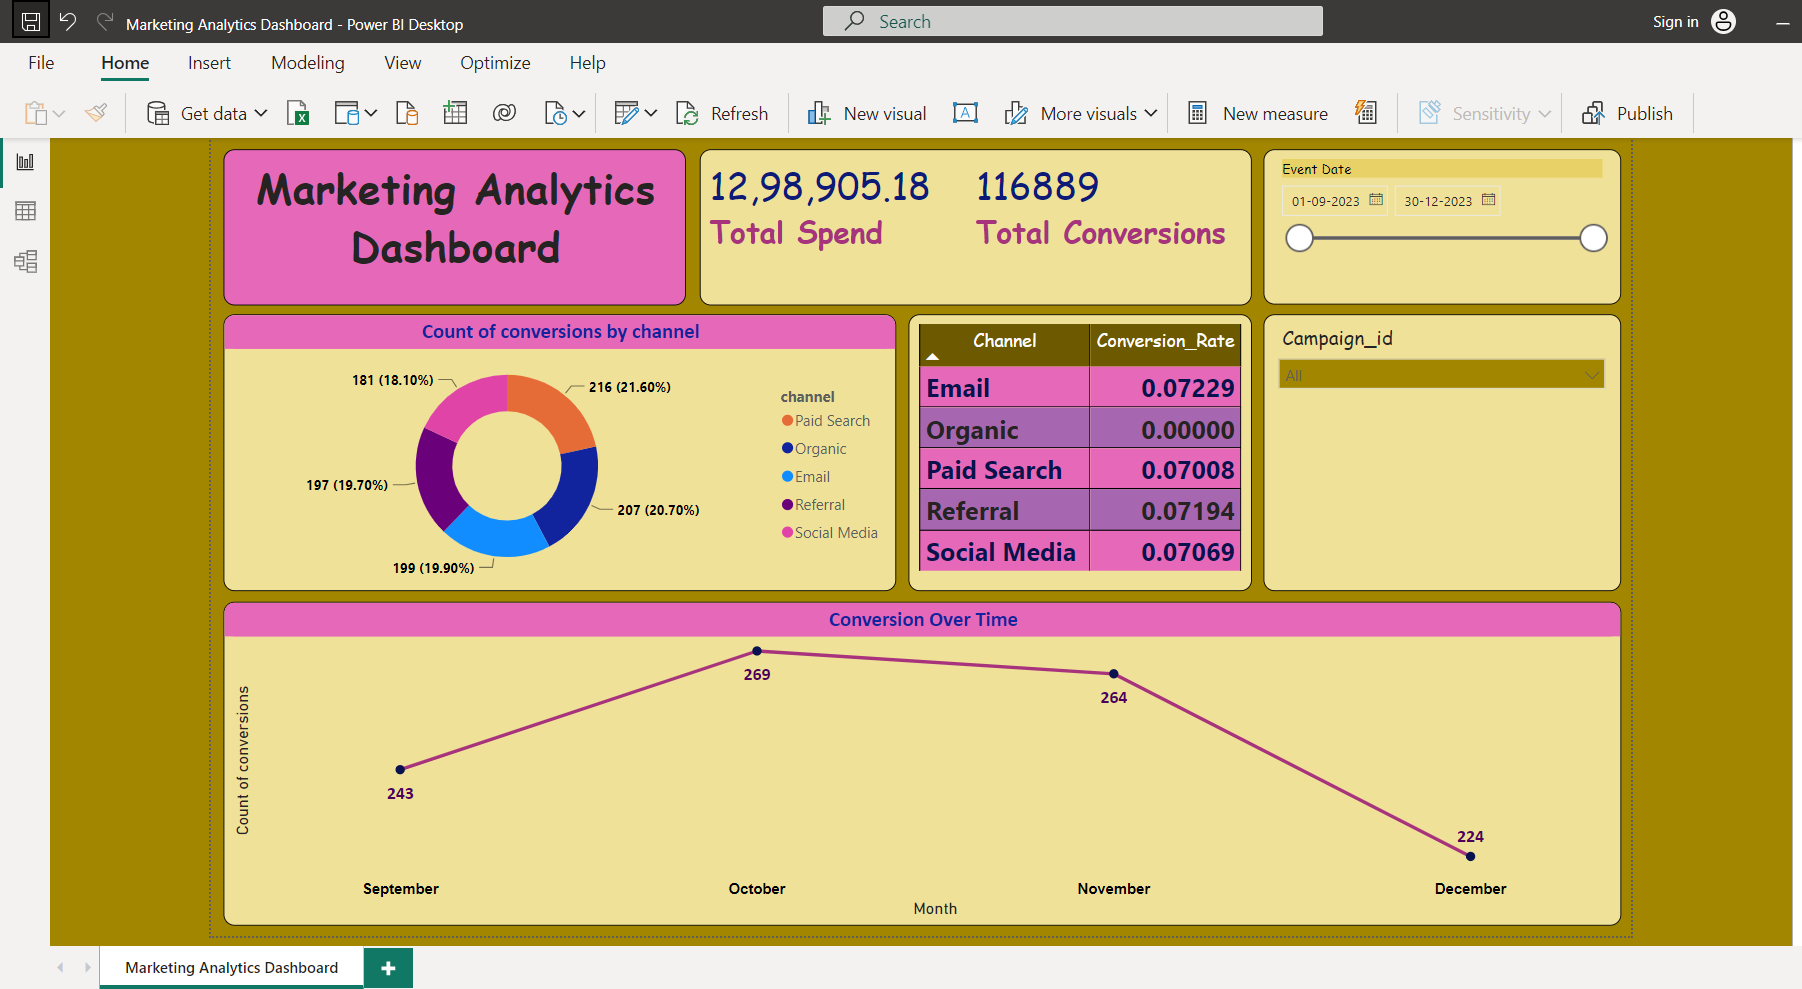

Layout of this report page (visuals, bound fields, positions):
{"tool":"powerbi","page":{"name":"Marketing Analytics Dashboard","canvas":[1280,720],"ordinal":0},"visuals":[{"type":"multiRowCard","fields":{"Values":["Sum(channels are most cost-effective in terms of conversions.total_spend)","Sum(Campaign performance by channel.total_conversions)"]},"box":[440.1,9.8,497.5,140.6],"z":0},{"type":"slicer","fields":{"Values":["MarketingEvents.campaign_id"]},"box":[948.8,159,322.2,249.5],"z":1000},{"type":"slicer","fields":{"Values":["MarketingEvents.event_date"]},"box":[948.8,9.6,322.2,139.8],"z":2000},{"type":"lineChart","title":"Conversion Over Time","fields":{"Category":["MarketingEvents.event_date.Variation.Date Hierarchy.Month","MarketingEvents.event_date.Variation.Date Hierarchy.Day"],"Y":["CountNonNull(MarketingEvents.conversions)"]},"box":[11,418.2,1260,292],"z":3000},{"type":"donutChart","fields":{"Category":["MarketingEvents.channel"],"Y":["CountNonNull(MarketingEvents.conversions)"]},"box":[11,158.9,606.3,249.4],"z":4000},{"type":"tableEx","fields":{"Values":["Campaign performance by channel.channel","Campaign performance by channel.conversion_rate"]},"box":[628.3,158.9,309.3,249.4],"z":5000},{"type":"textbox","box":[11,9.8,416.8,140.6],"z":6000}]}

Visuals, with their boxes on the page's 1280x720 design canvas (x1, y1, x2, y2). These are canvas units, not pixel positions in the 1802x989 screenshot, which may show the page scaled, cropped or inside an application window:
multiRowCard - Sum(channels are most cost-effective in terms of conversions.total_spend) x Sum(Campaign performance by channel.total_conversions): [440, 10, 938, 150]
slicer - MarketingEvents.campaign_id: [949, 159, 1271, 408]
slicer - MarketingEvents.event_date: [949, 10, 1271, 149]
"Conversion Over Time" lineChart: [11, 418, 1271, 710]
donutChart - MarketingEvents.channel x CountNonNull(MarketingEvents.conversions): [11, 159, 617, 408]
tableEx - Campaign performance by channel.channel x Campaign performance by channel.conversion_rate: [628, 159, 938, 408]
textbox: [11, 10, 428, 150]
